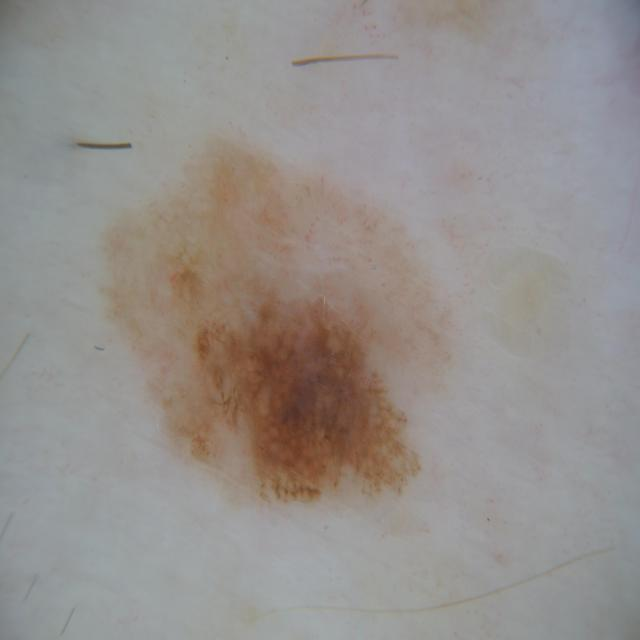Skin-Cancer Melanoma: (36, 53, 517, 640)
